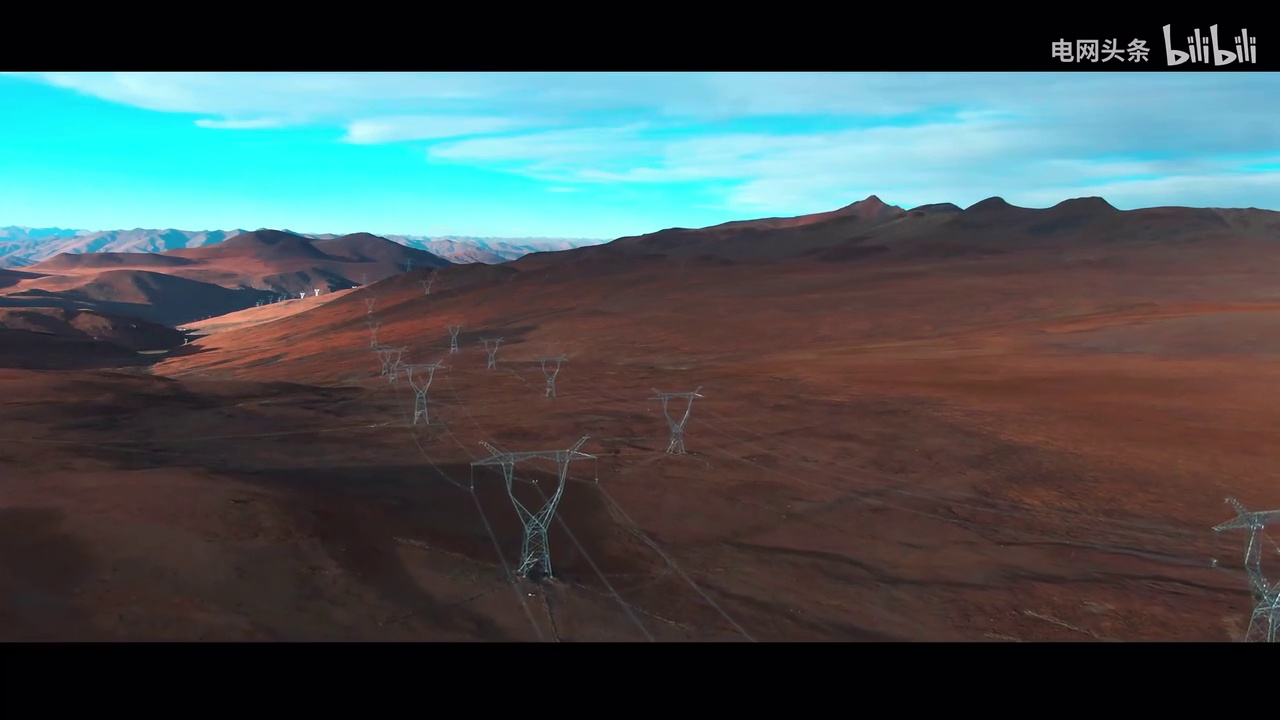tower_body: (459, 437, 616, 593), (644, 376, 711, 458), (402, 362, 444, 423), (533, 352, 566, 400)
tower_foot: (517, 543, 558, 585)
tower_head: (469, 440, 608, 531), (649, 385, 702, 435)
